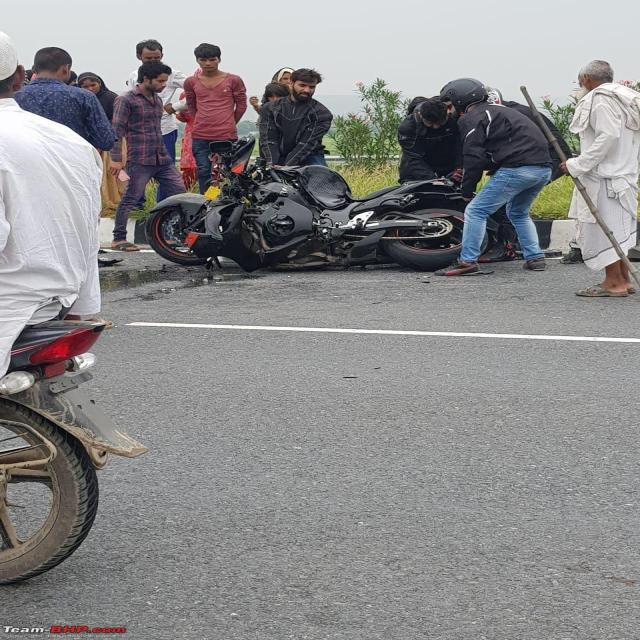accident: (147, 139, 465, 271)
